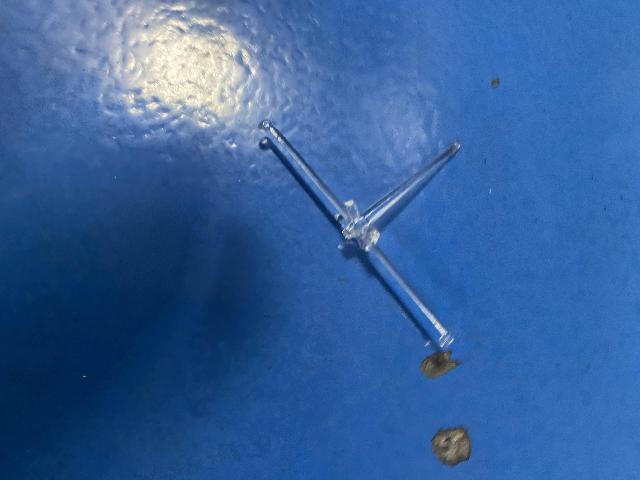Plastik: (252, 103, 463, 370)
